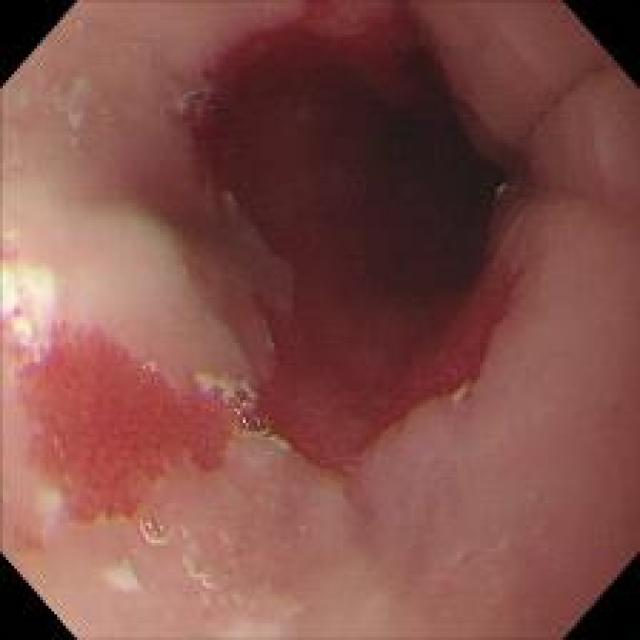bubbles: (180, 549, 255, 614), (220, 390, 272, 441), (130, 509, 172, 554), (179, 114, 209, 129), (130, 41, 146, 59), (98, 105, 112, 124), (158, 105, 172, 120), (201, 104, 216, 118)
color misalignment: (185, 568, 240, 609), (178, 81, 216, 139), (139, 534, 162, 555)
contrast: (266, 29, 546, 349)
specularity: (0, 258, 69, 369)
